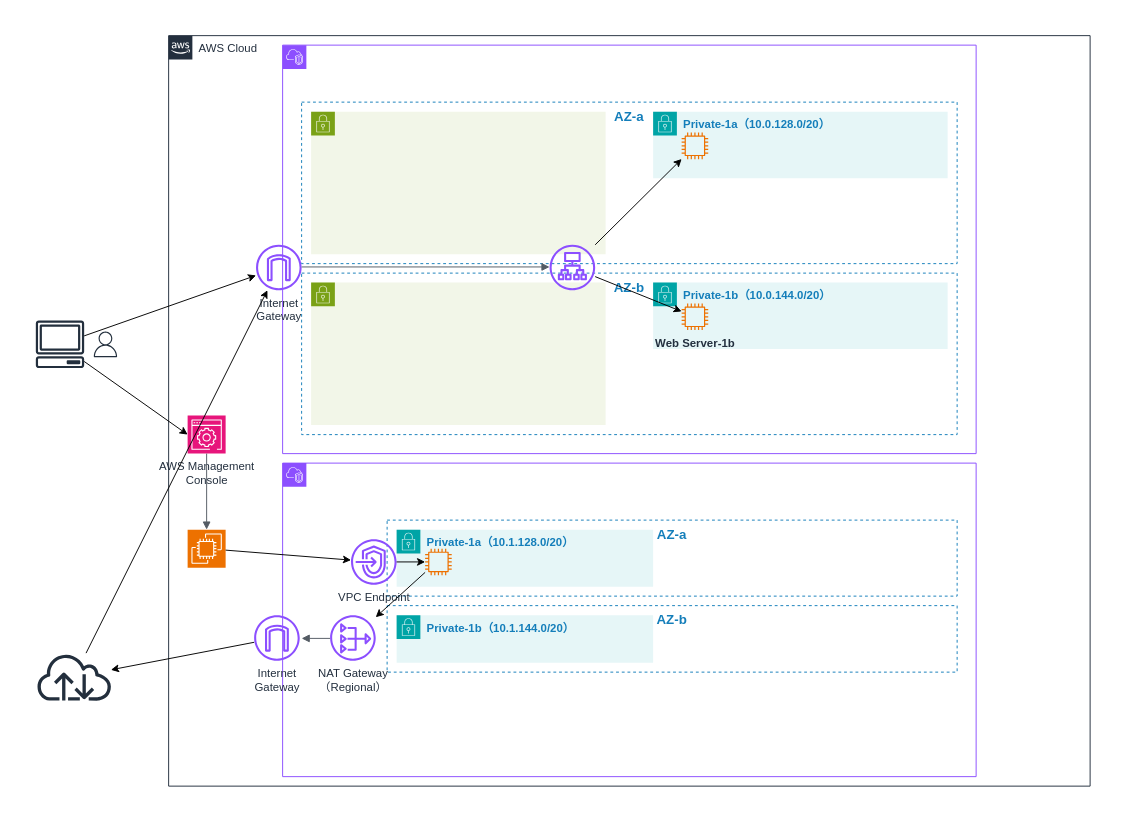
Image size: 1126x822. Some labels were removed from this diagram. Here are the shapes that lost their labels. From the top down, the box of each, then its label:
(681, 132, 708, 159): Web Server-1a
(310, 111, 606, 254): Public-a （10.0.0.0/20, 24xx:x:x:xx00::/64）
(549, 244, 595, 290): ALB （Dual Stack）
(282, 44, 976, 454): Server VPC（10.0.0.0/16, 24xx:x:x:xx00::/56）
(310, 282, 606, 425): Public-b （10.0.16.0/20, 24xx:x:x:xx01::/64）
(187, 529, 226, 568): EC2 Instance Connect （Private）
(425, 548, 451, 575): Client-1
(282, 462, 976, 777): Client VPC（10.1.0.0/16 ）
